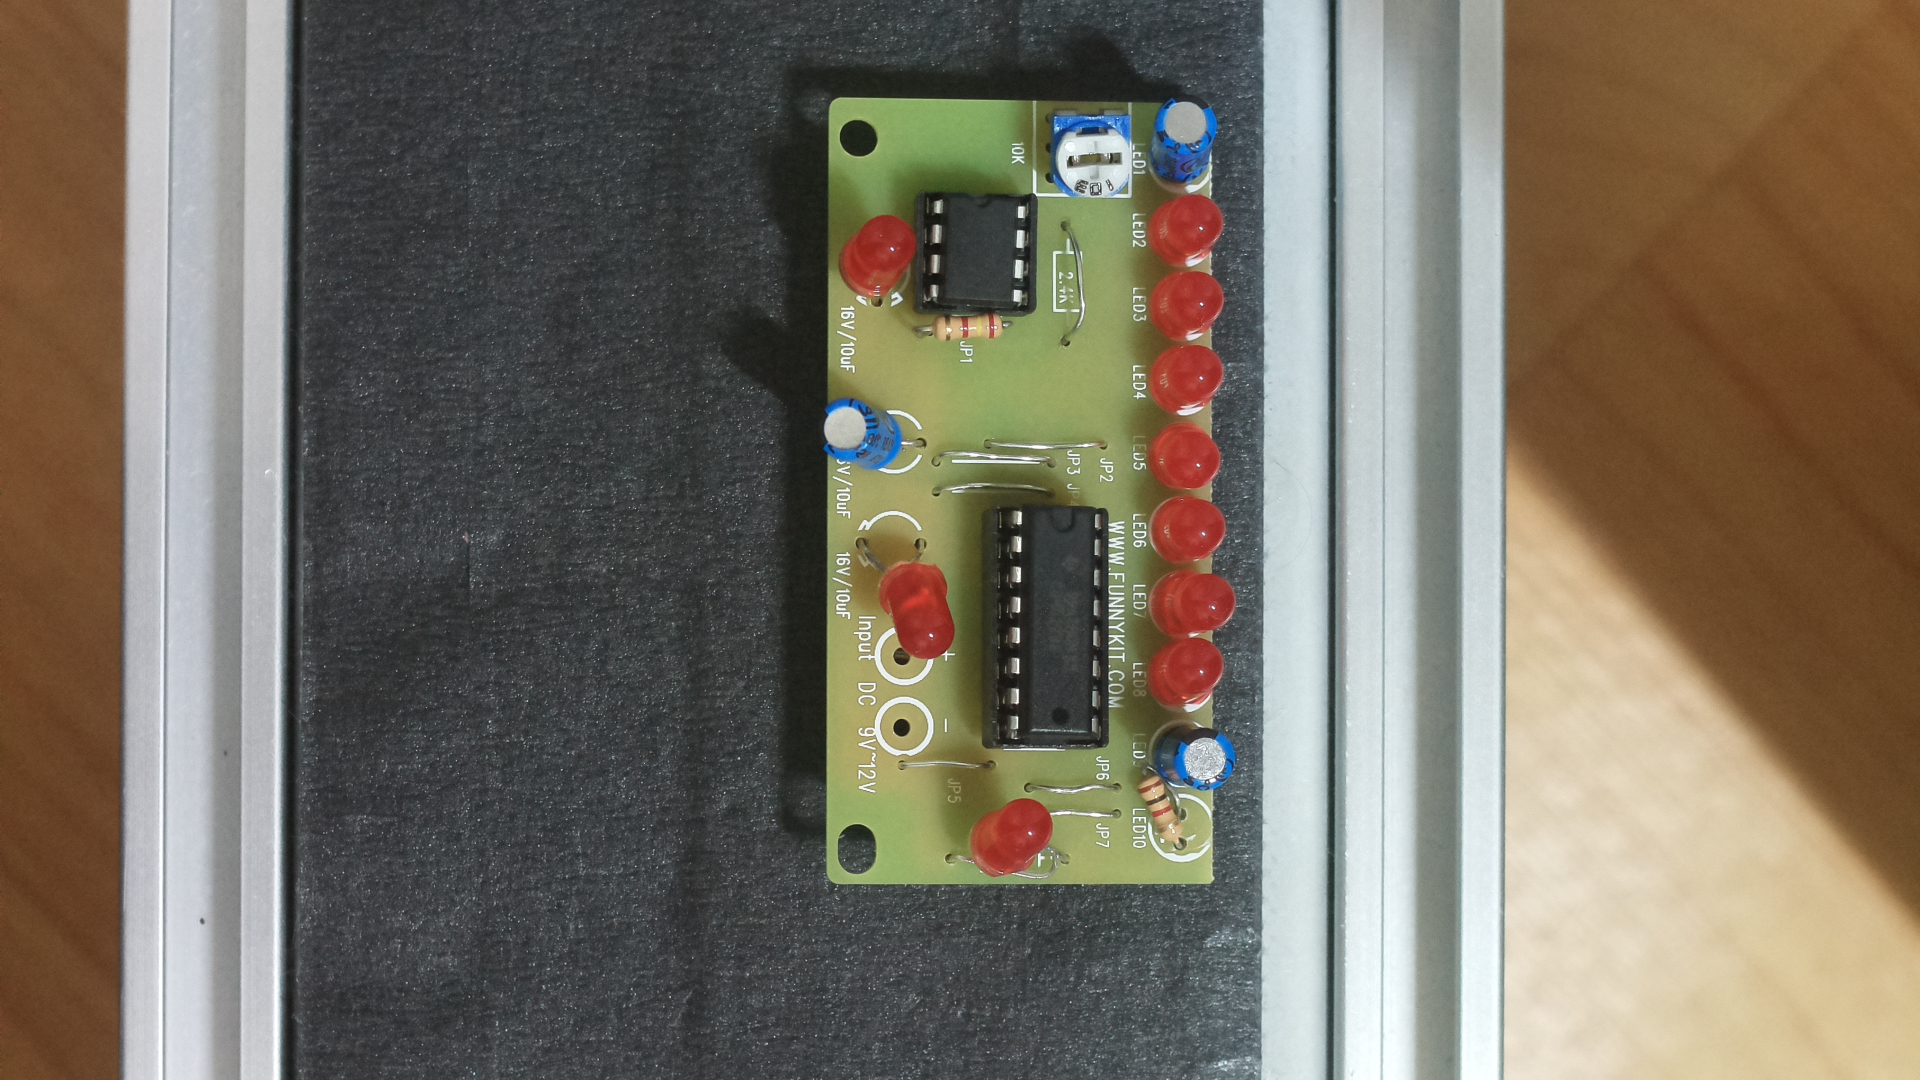B_Misordered: (813, 81, 1233, 894)
